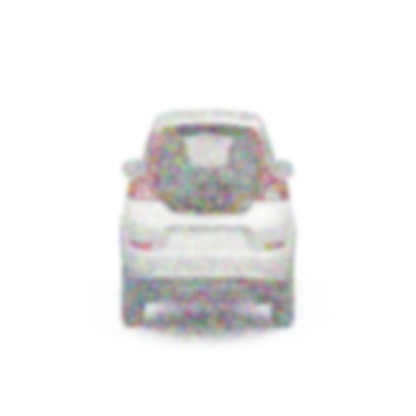Vehicle: (116, 105, 300, 341)
